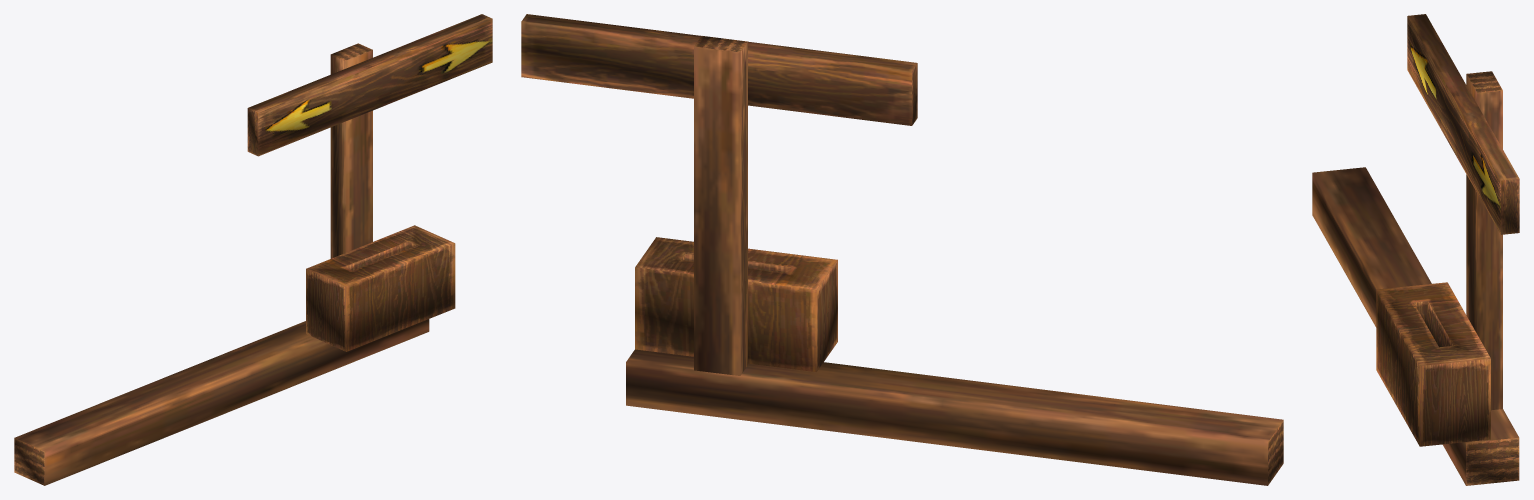
The model's file is SWORDLIGHT20_MAINCAVTRACKSWITCH1.fbx.
3 renders of one model, left to right at view 1: azimuth 30°, elevation 25°; view 2: azimuth 150°, elevation 25°; view 3: azimuth 270°, elevation 25°, orthographic. The views are drawn at different scales.
Parts seen in each view (by area): view 1: SWORDLIGHT20_MAINCAVTRACKSWITCH1; view 2: SWORDLIGHT20_MAINCAVTRACKSWITCH1; view 3: SWORDLIGHT20_MAINCAVTRACKSWITCH1.
Part boxes in pixels (x1,y1,x2,y2): SWORDLIGHT20_MAINCAVTRACKSWITCH1: (14,14,492,485); SWORDLIGHT20_MAINCAVTRACKSWITCH1: (521,14,1283,485); SWORDLIGHT20_MAINCAVTRACKSWITCH1: (1312,14,1519,485).
Bounding box in the file's own units: 28189 × 14720 × 7645.
Materials: 3 (3 with a texture image).
